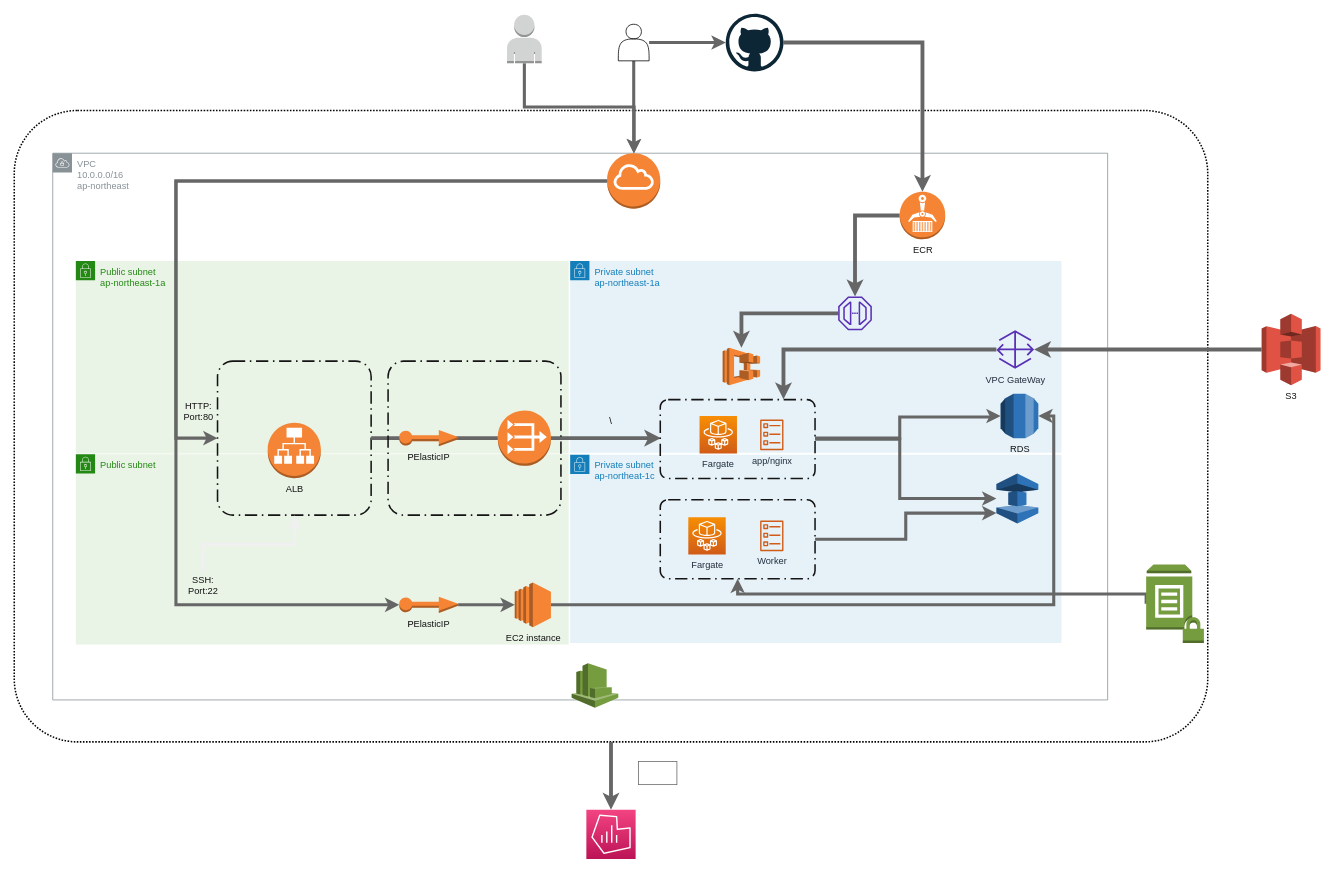
Image size: 1334x891. Some labels were removed from this diagram. The centre of each missing label's shape, as x and y in pixels:
"CloudWatch/ContainerInsights" goes at [594,685].
"ECS" goes at [741,366].
"Endpoint" goes at [854,313].
"Grafana Cloud" goes at [611,834].
"Log" goes at [657,773].
"NAT Gateway" goes at [524,438].
"Parameter Store" goes at [1174,603].
"Redis" goes at [1017,498].
"User" goes at [524,38].
